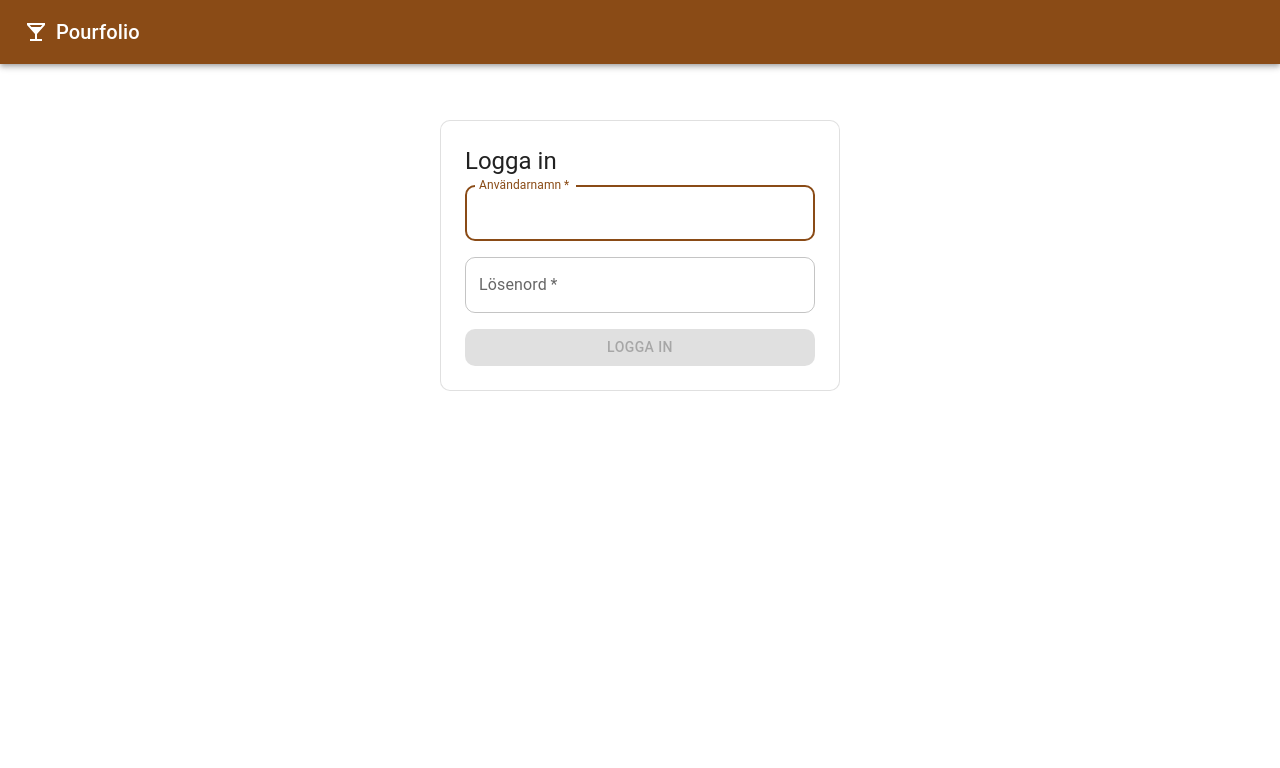
Test: sign-in › sends signed-out users to the login page and back where they were going
Expected: the heading "Logga in" is shown, [465,147,557,175]
Type "pourfolio" into the field labelled "Användarnamn *" at point(640, 213), box [465,185,815,241]
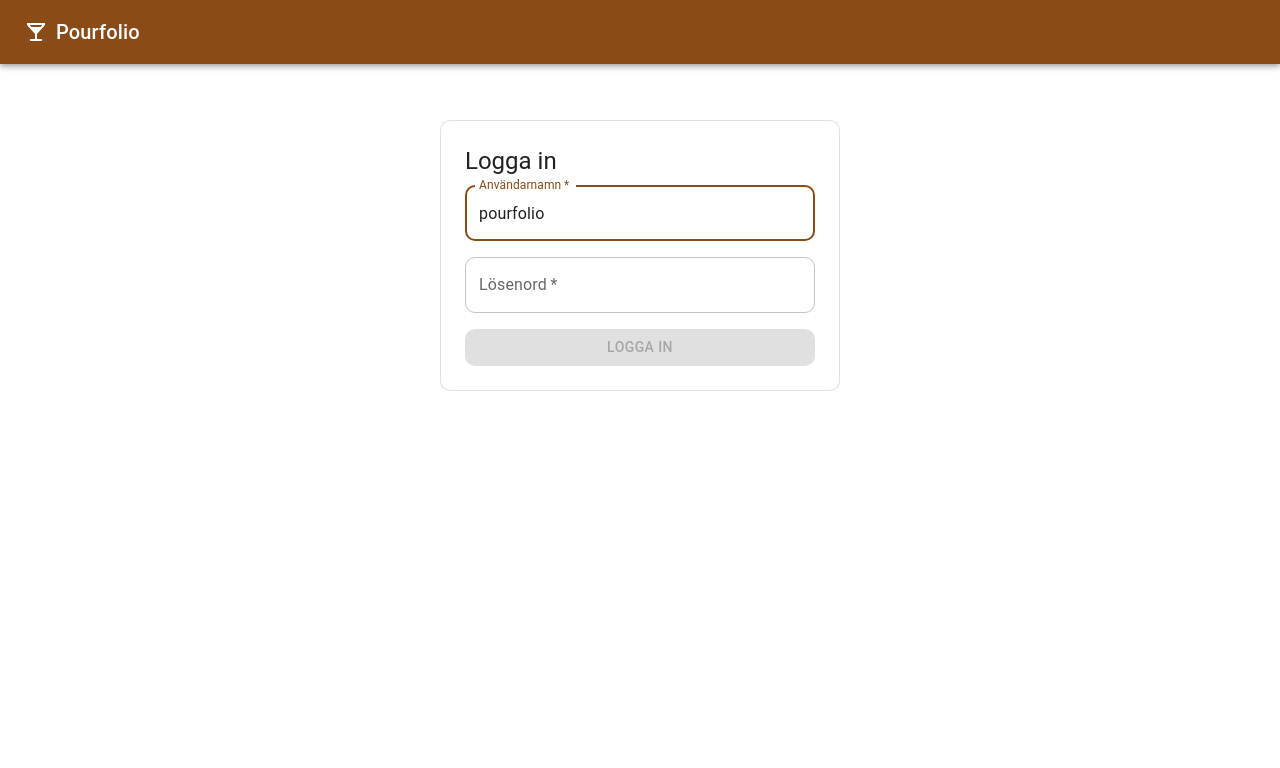
Type "hemligt" into the password field labelled "Lösenord *" at point(640, 285), box [465,257,815,313]
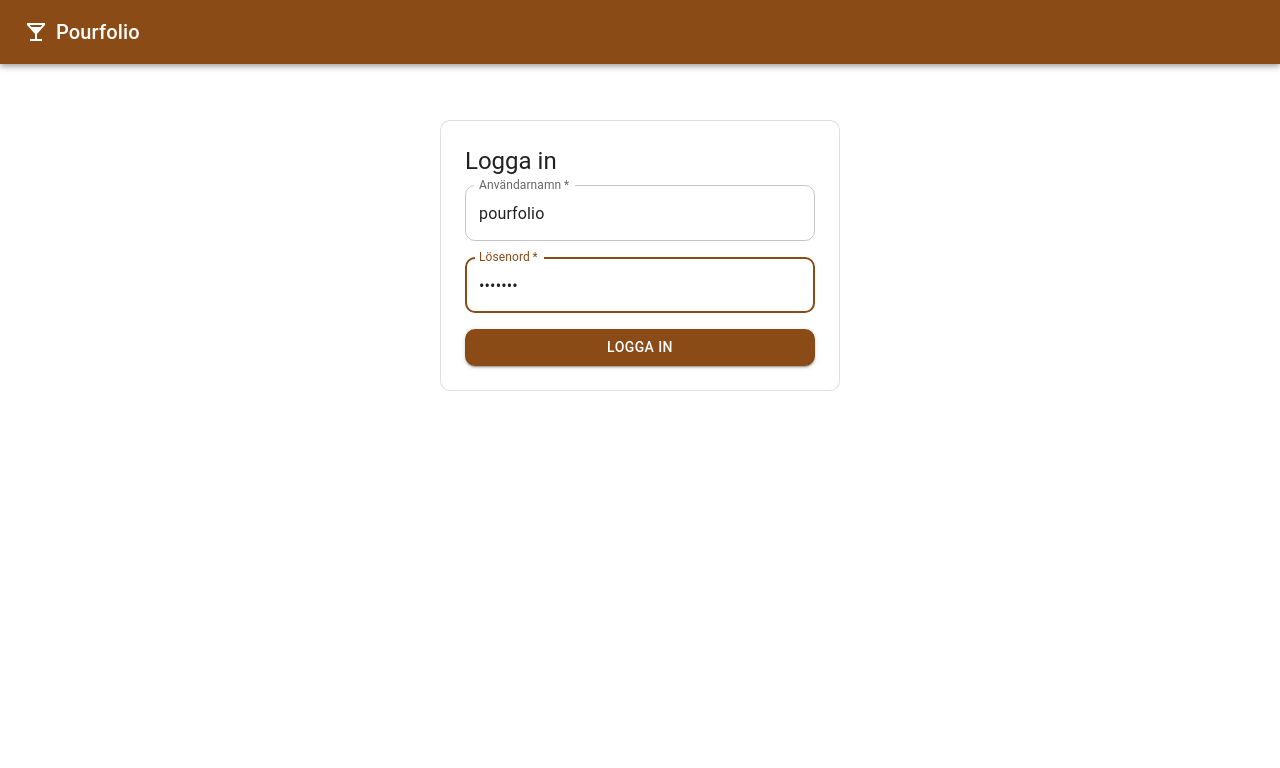
Click the button "Logga in" at point(640, 348), box [465,329,815,366]
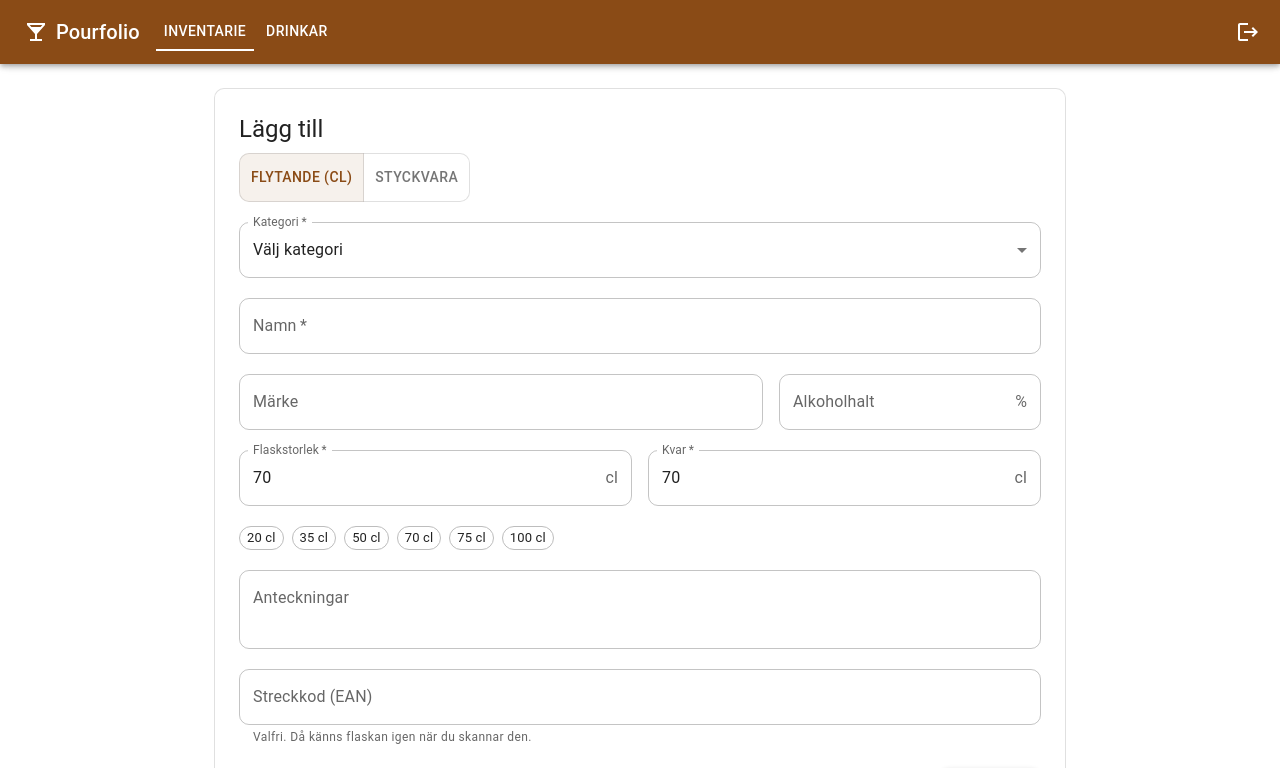
Expected: the heading "Lägg till" is shown, [239,115,323,143]
